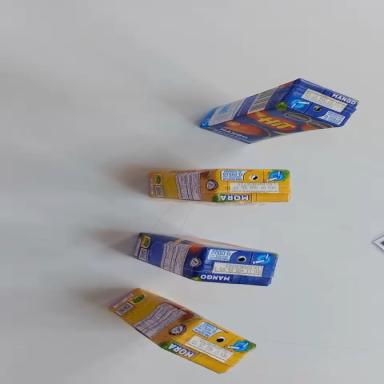HIT-MANGO: (195, 68, 362, 152), (131, 226, 279, 295)
HIT-MORA: (105, 277, 256, 384), (148, 166, 291, 206)
cara_F: (201, 96, 340, 151), (141, 233, 275, 253)
